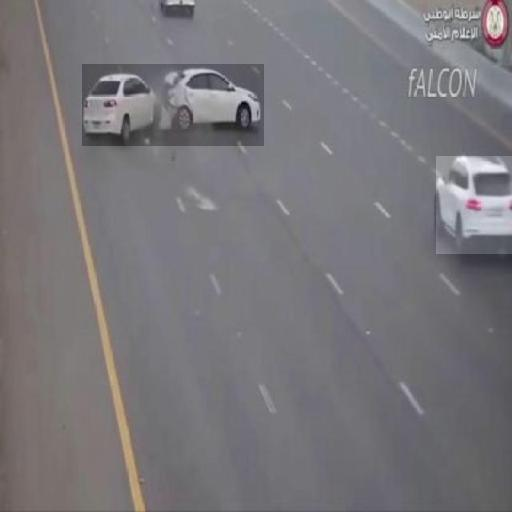小汽车: (436, 156, 512, 254)
小汽车撞小汽车: (82, 64, 264, 146)
